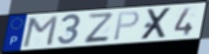3: (56, 12, 82, 47)
4: (173, 6, 195, 37)
M: (21, 14, 60, 48)
P: (112, 10, 141, 42)
X: (139, 6, 174, 41)
Z: (83, 12, 113, 45)
